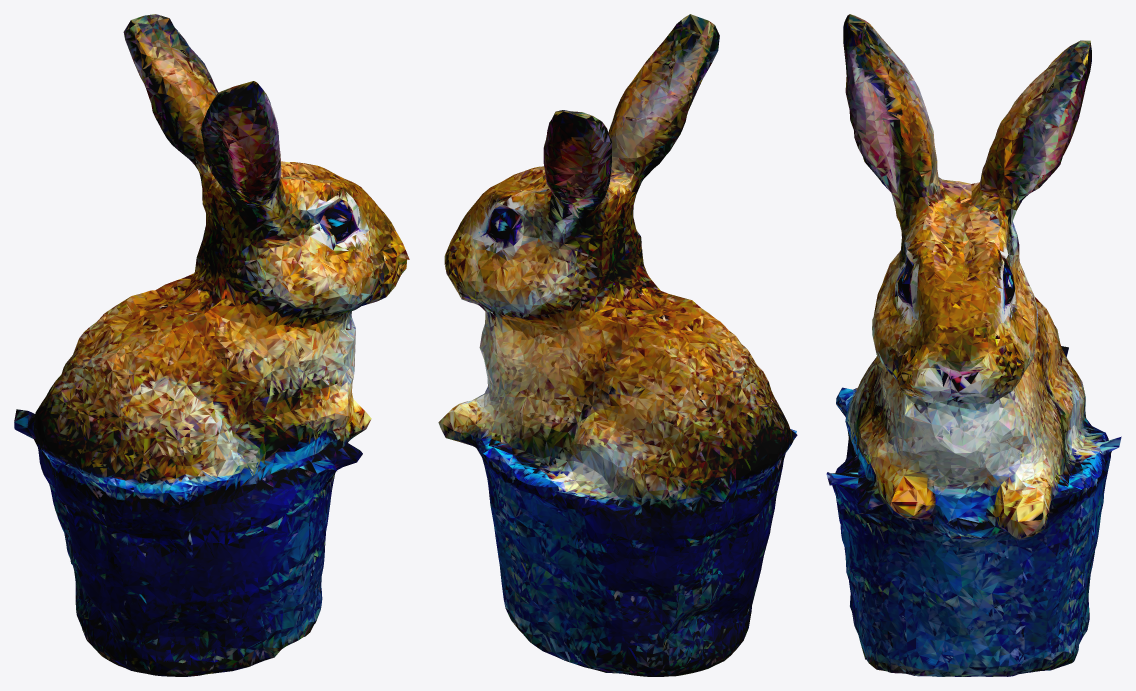
Rendered from rabbit_bucket-canny.glb.
3 views of the same model, side by side, from view 1: azimuth 30°, elevation 25°; view 2: azimuth 150°, elevation 25°; view 3: azimuth 270°, elevation 25° (orthographic). The views are drawn at different scales.
Parts seen in each view (by area): view 1: extracted_mesh; view 2: extracted_mesh; view 3: extracted_mesh.
Boxes of the visible parts, x1,y1,x2,y2 form: extracted_mesh: [14, 14, 409, 676]; extracted_mesh: [438, 14, 797, 676]; extracted_mesh: [826, 14, 1121, 676].
Size of the model in its own units: 0.6499 by 1.11 by 0.4648.
1 material, 1 textured.
